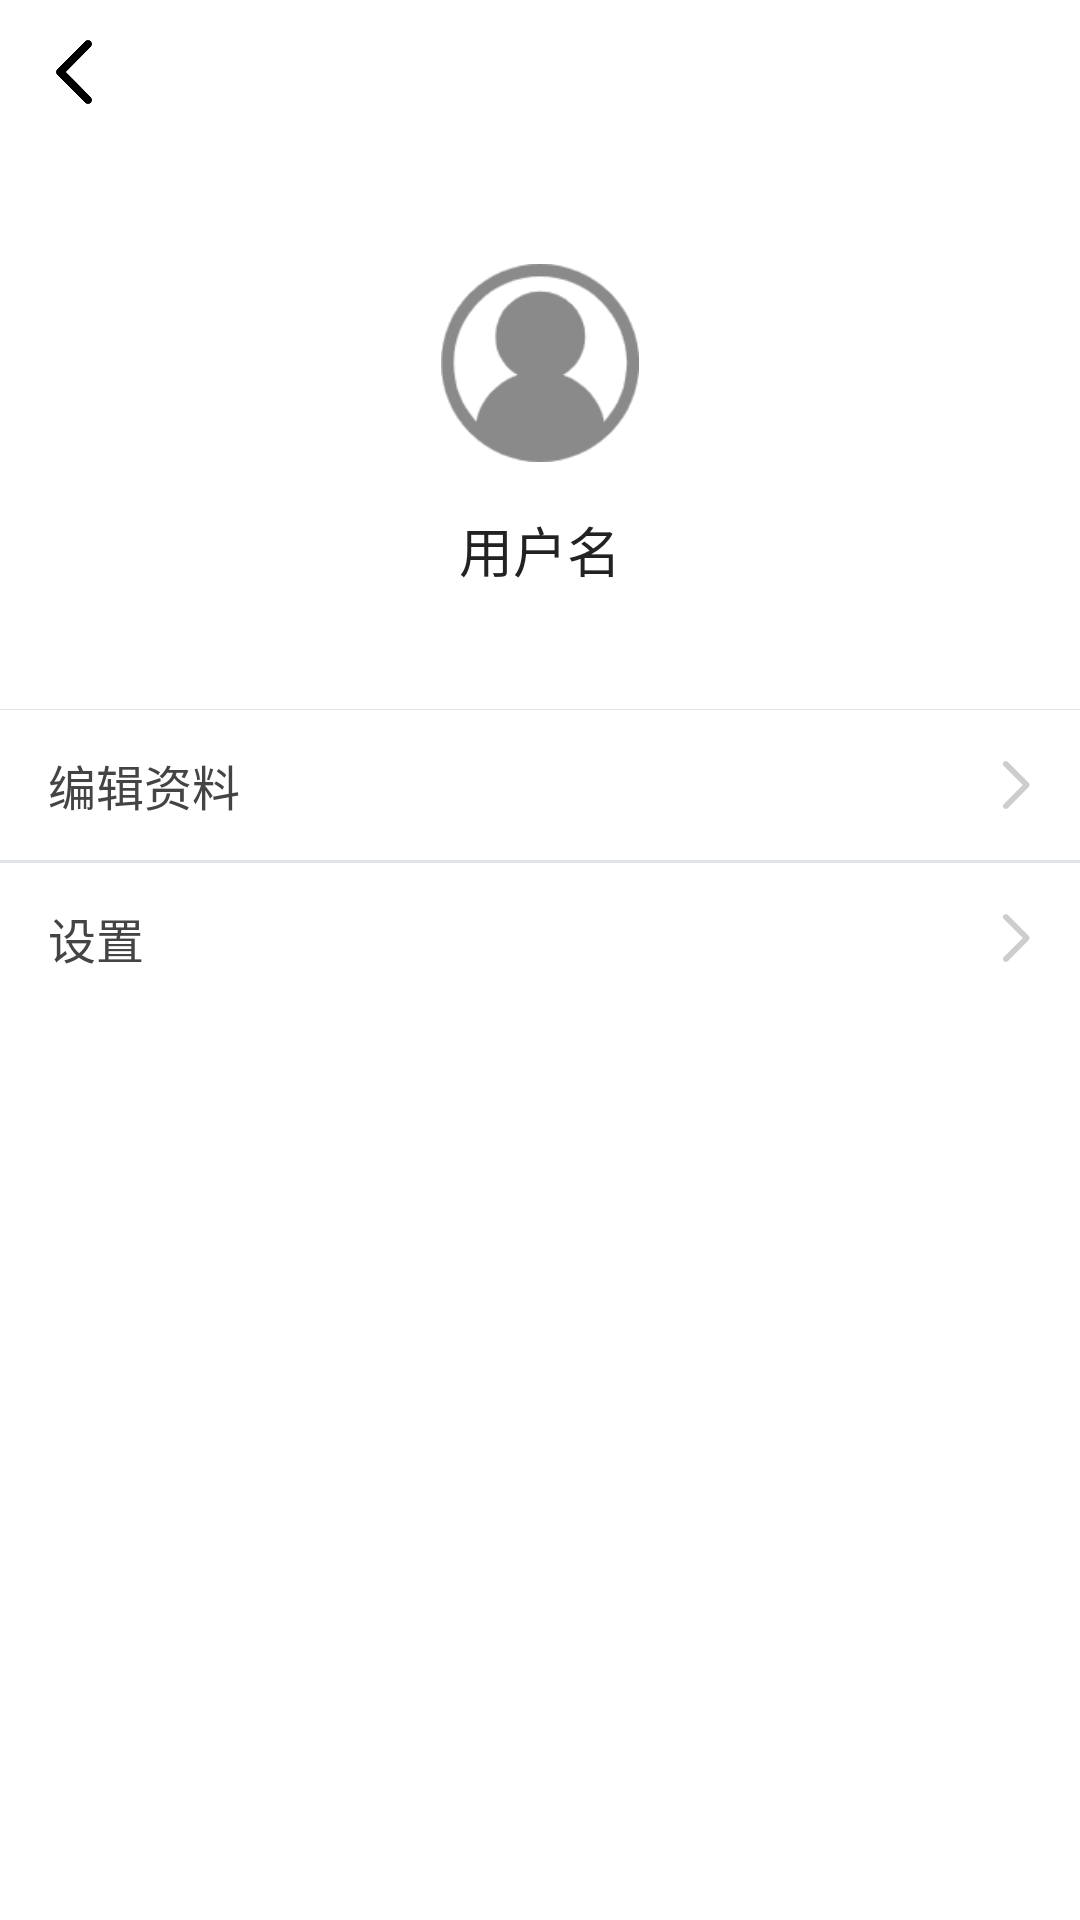

Icons on this 1080w x 1920h Android screen, each with its box as (x1, y1, x2, y2):
back: (56, 40, 92, 104)
head: (441, 264, 639, 462)
